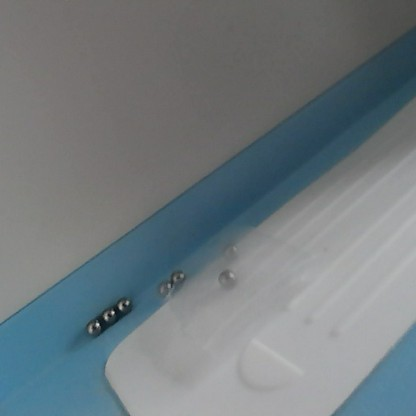ironball: (212, 265, 236, 290), (221, 240, 241, 260), (116, 295, 135, 314), (86, 319, 105, 336), (153, 278, 173, 294), (170, 268, 188, 284), (101, 306, 120, 321)
